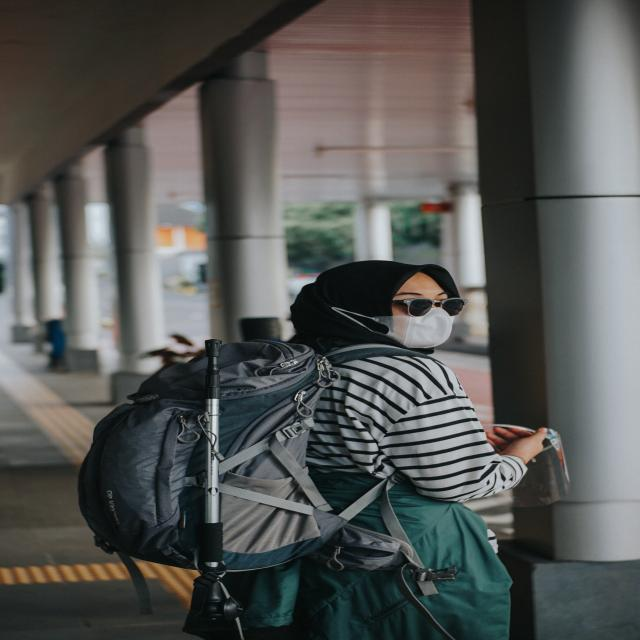backpack: (50, 334, 448, 582)
